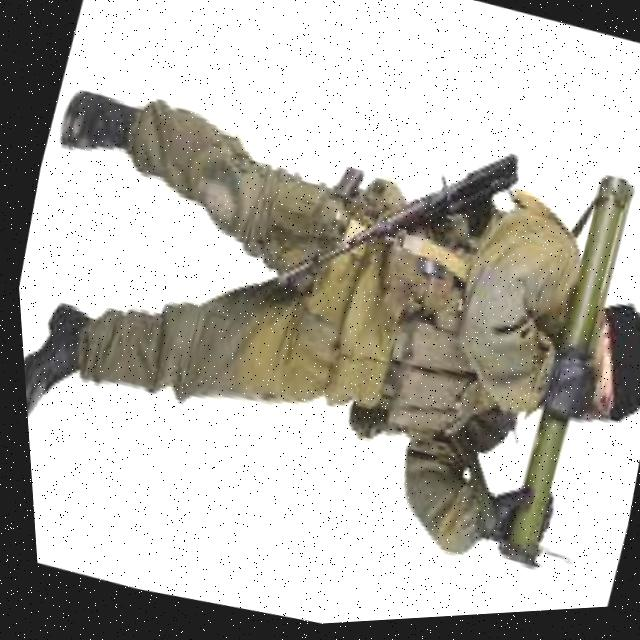rocket: (465, 171, 640, 593)
